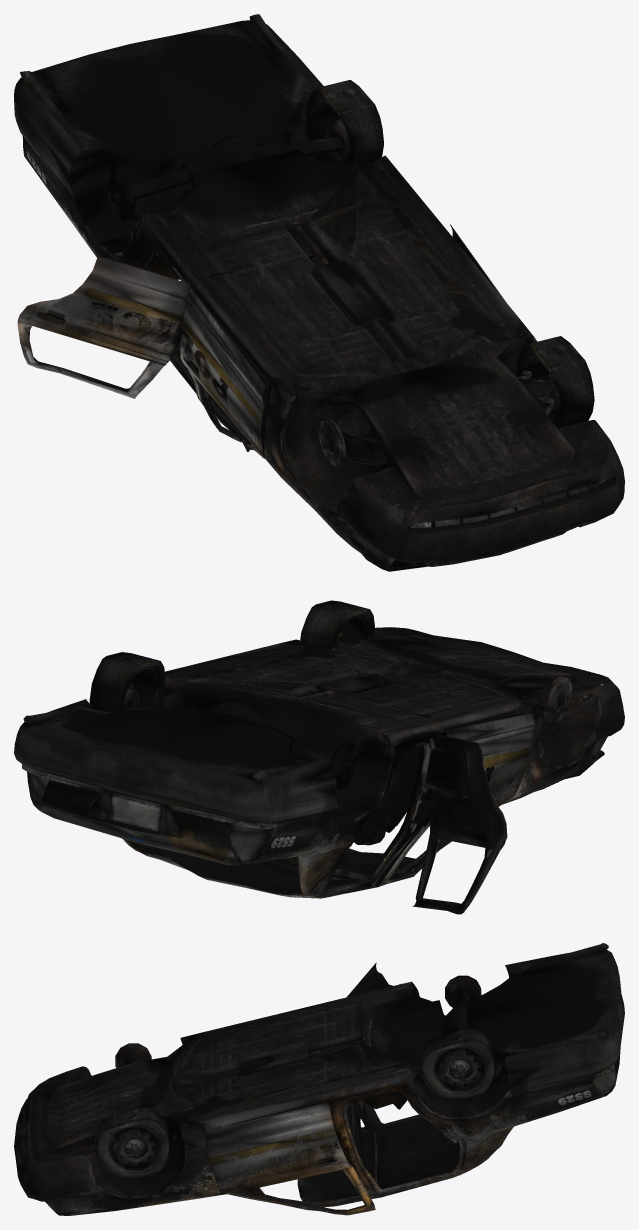
The model's file is car_police_flipped.gltf.
3 renders of one model, top to bottom at view 1: azimuth 30°, elevation 25°; view 2: azimuth 150°, elevation 25°; view 3: azimuth 270°, elevation 25°, orthographic. The views are drawn at different scales.
Parts seen in each view (by area): view 1: car_police_flipped; view 2: car_police_flipped; view 3: car_police_flipped.
Part boxes in pixels (left/top/right/bottom): car_police_flipped: left=14, top=14, right=624, bottom=571; car_police_flipped: left=14, top=600, right=624, bottom=914; car_police_flipped: left=14, top=943, right=624, bottom=1215.
Size of the model in its own units: 2.66 by 1.68 by 4.8.
1 material, 1 textured.
